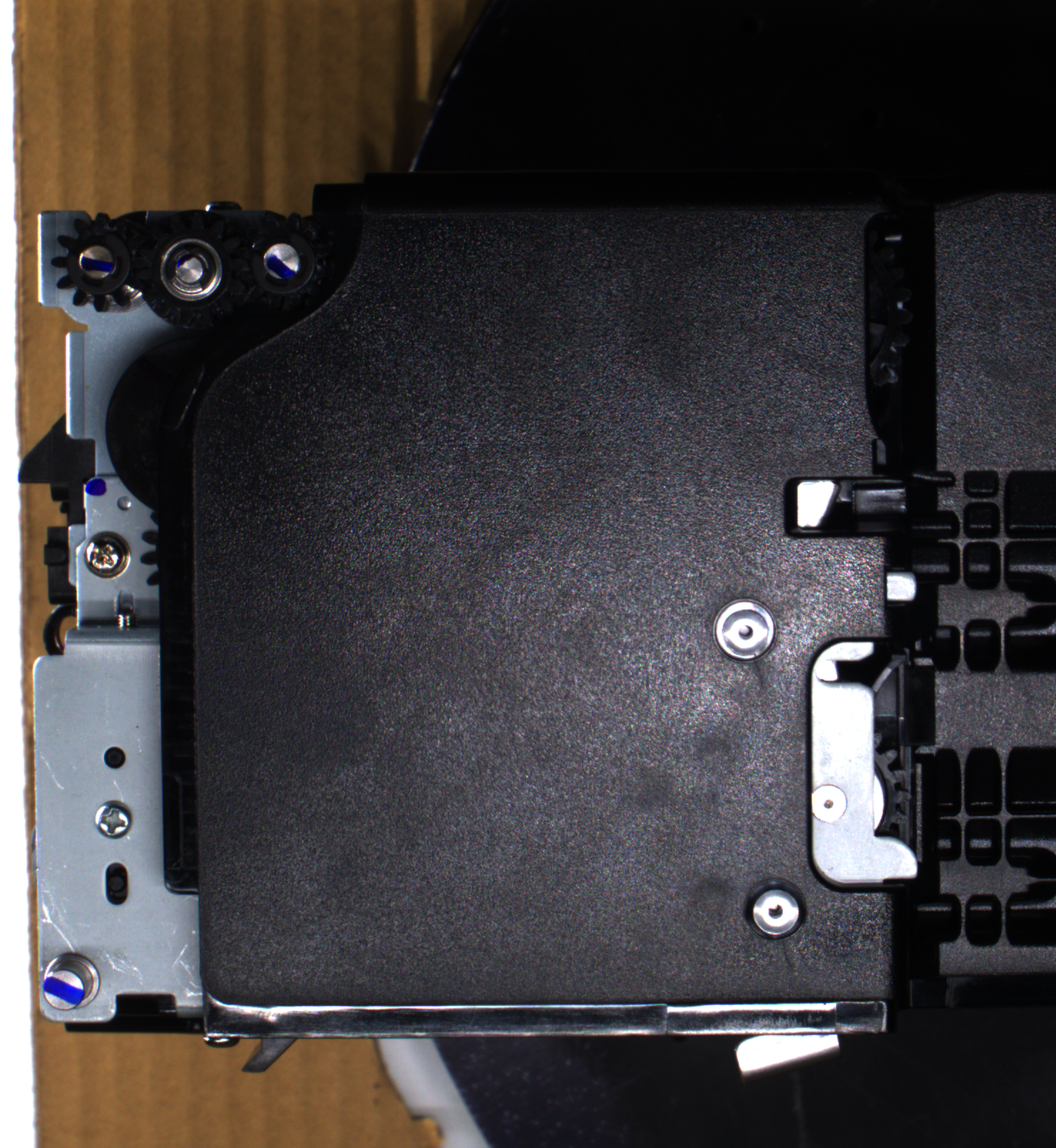centre_pin_presence: (727, 1017, 848, 1082)
centre_plate_presence: (800, 630, 929, 899)
centre_screw_presence: (709, 593, 782, 669), (738, 872, 811, 947)
gear1_presence: (49, 210, 149, 314)
gear2_presence: (134, 209, 249, 330)
gear3_presence: (231, 209, 331, 314)
side_screw_presence: (81, 528, 133, 580), (90, 798, 135, 840)
slanting_pin_presence: (38, 950, 108, 1018)
